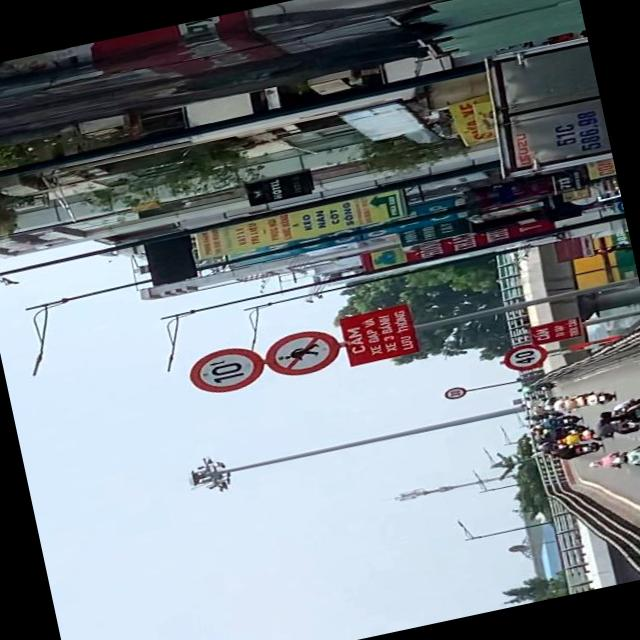P-112: (262, 322, 342, 380)
P-115: (185, 340, 266, 398)
P-127: (500, 338, 548, 372)
